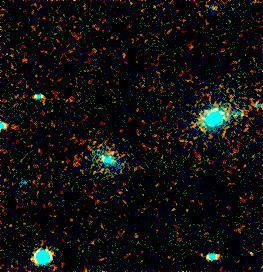star: (237, 239, 263, 269)
